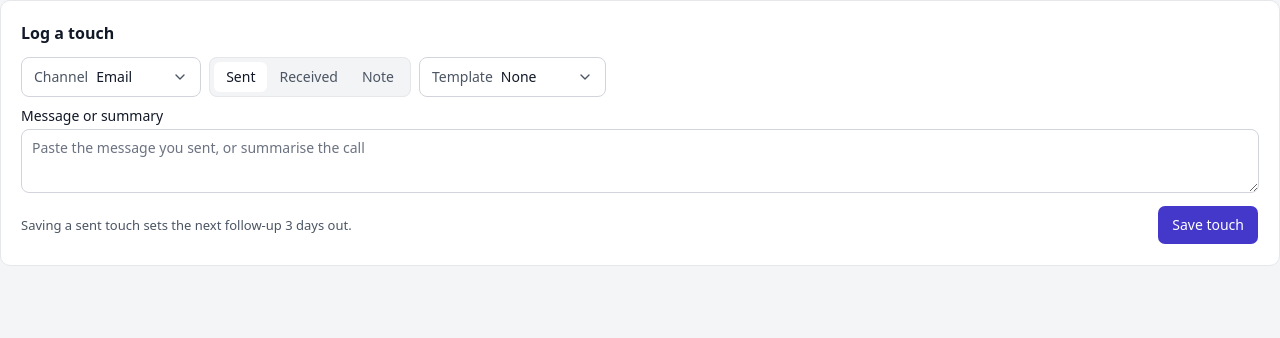
LogTouchForm › shows a save error
The width and height of the screenshot is (1280, 338).
Click the button "Save touch" at (1208, 225), box [1157,205,1259,245]
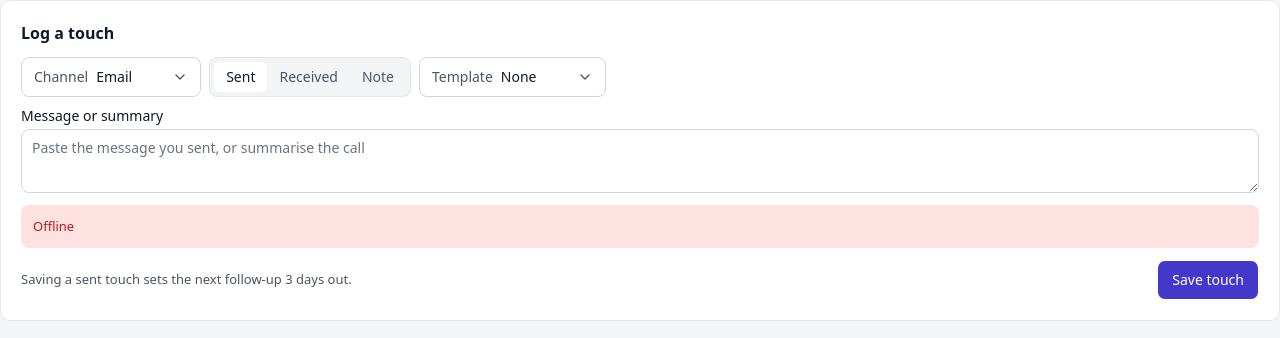
Expected: the message reads "Offline", [33,217,74,235]
